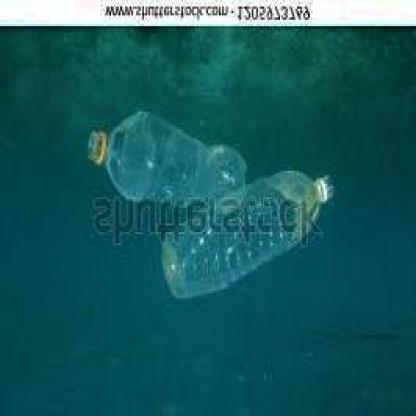pbottle: (144, 156, 340, 304), (82, 107, 250, 204)
